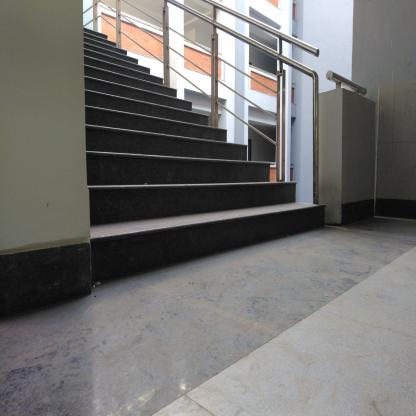stairs: (94, 93, 178, 291)
